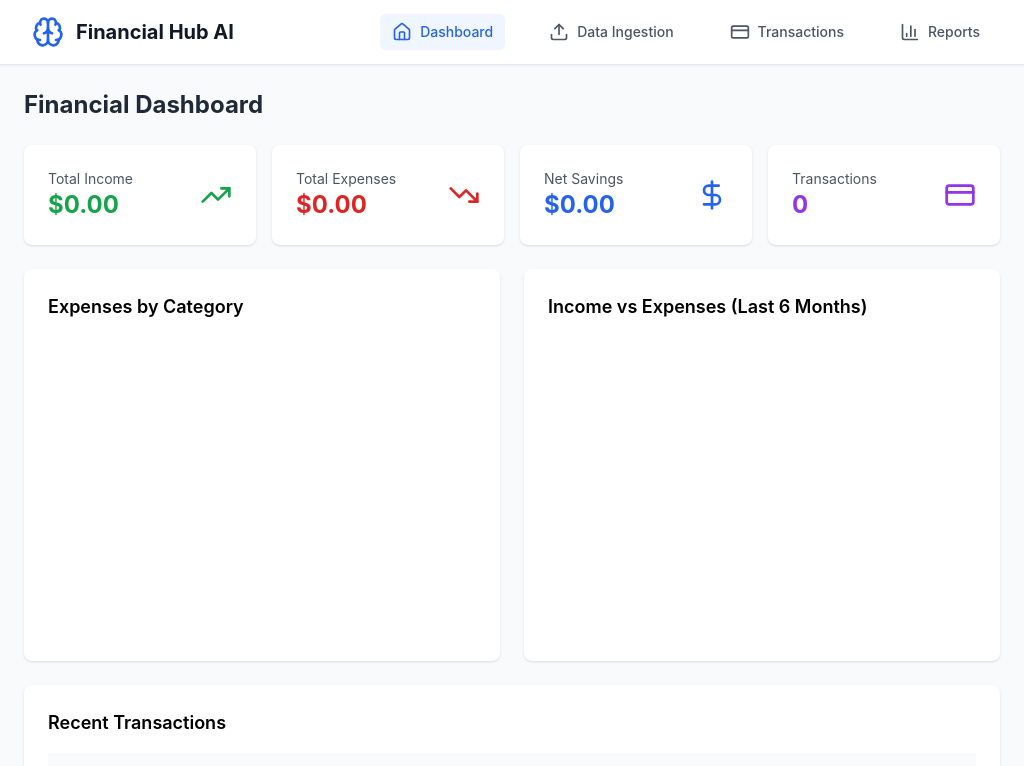
App Component › handles transaction extraction from file upload
The width and height of the screenshot is (1024, 766).
Note: Navigate to upload tab
Click the button "Data Ingestion" at (611, 32), box top-left (537, 14), bottom-right (686, 50)
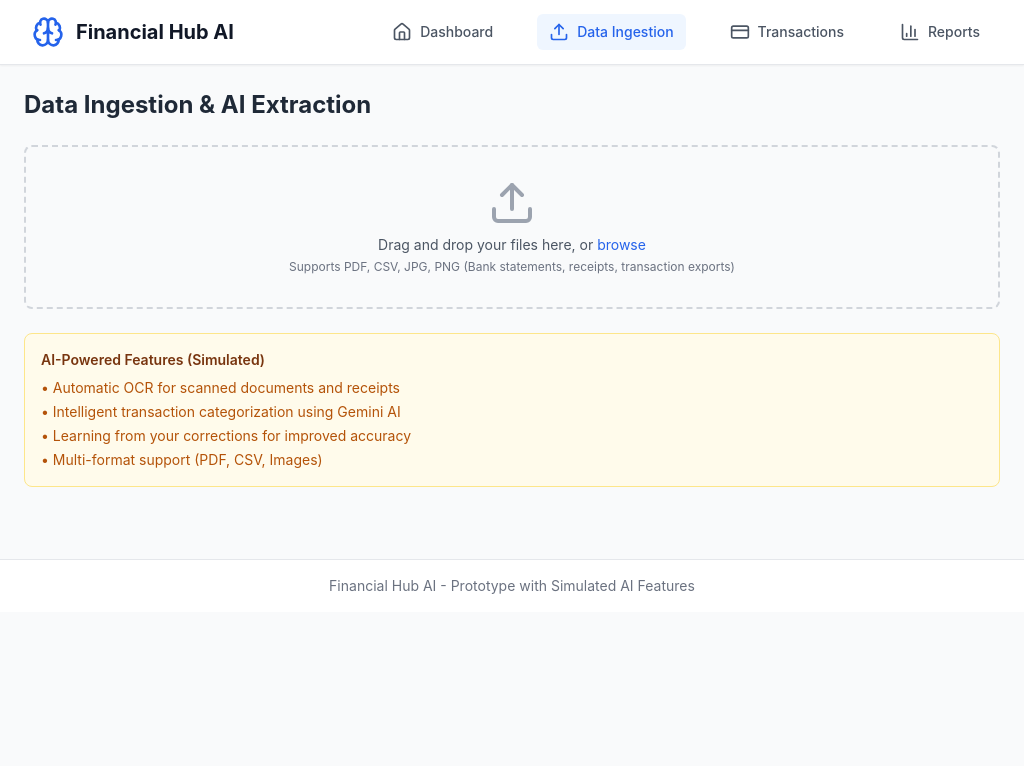
Expected: the heading "Data Ingestion & AI Extraction" is shown, top-left (24, 90), bottom-right (371, 119)
